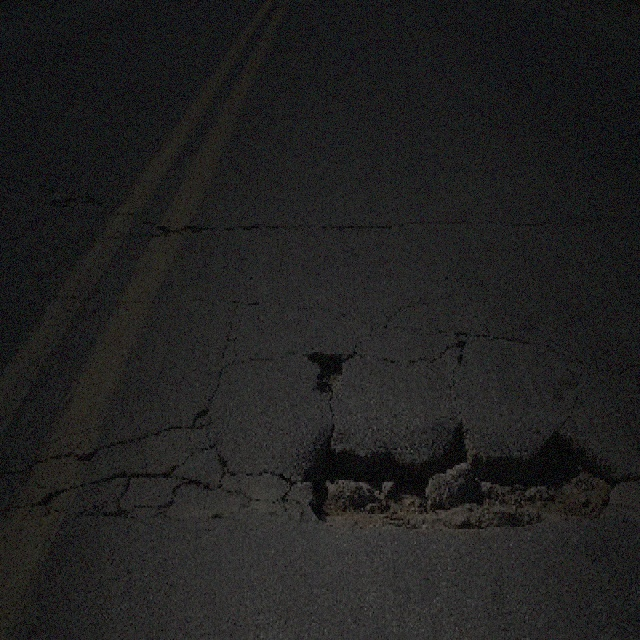pothole: (293, 416, 624, 531), (304, 346, 349, 394)
